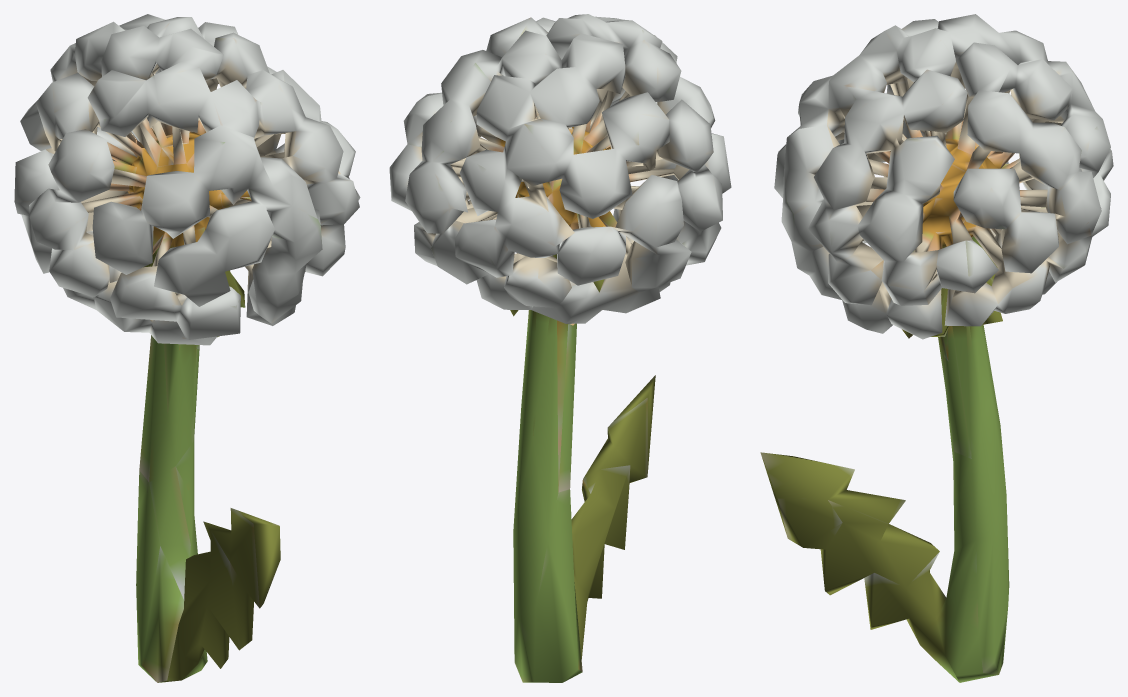
The model's file is tree-dandelion.glb.
The picture shows the model from 3 angles, left to right: view 1: azimuth 30°, elevation 25°; view 2: azimuth 150°, elevation 25°; view 3: azimuth 270°, elevation 25°; orthographic projection. The views are drawn at different scales.
Visible parts, largest first — view 1: tripo_node_f74c8769-982e-4f6c-b7c8-033f0d1f4db8; view 2: tripo_node_f74c8769-982e-4f6c-b7c8-033f0d1f4db8; view 3: tripo_node_f74c8769-982e-4f6c-b7c8-033f0d1f4db8.
Part boxes in pixels (left/top/right/bottom): tripo_node_f74c8769-982e-4f6c-b7c8-033f0d1f4db8: left=14, top=14, right=360, bottom=682; tripo_node_f74c8769-982e-4f6c-b7c8-033f0d1f4db8: left=389, top=14, right=731, bottom=682; tripo_node_f74c8769-982e-4f6c-b7c8-033f0d1f4db8: left=760, top=14, right=1113, bottom=682.
Size of the model in its own units: 0.4943 by 1 by 0.5036.
1 material, 1 textured.
